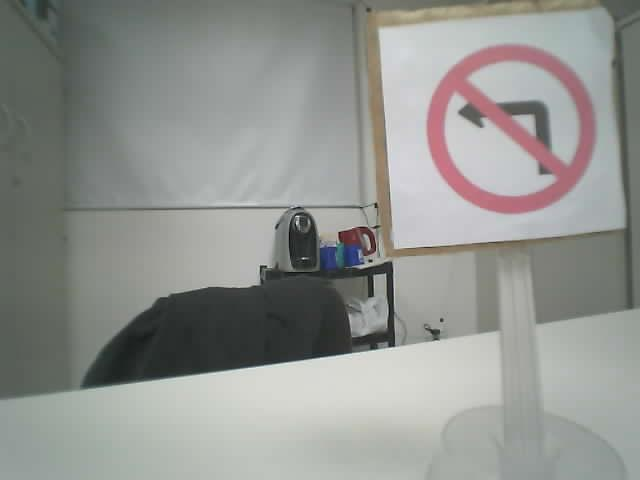R-4a_proibido-esquerda: (422, 42, 595, 214)
